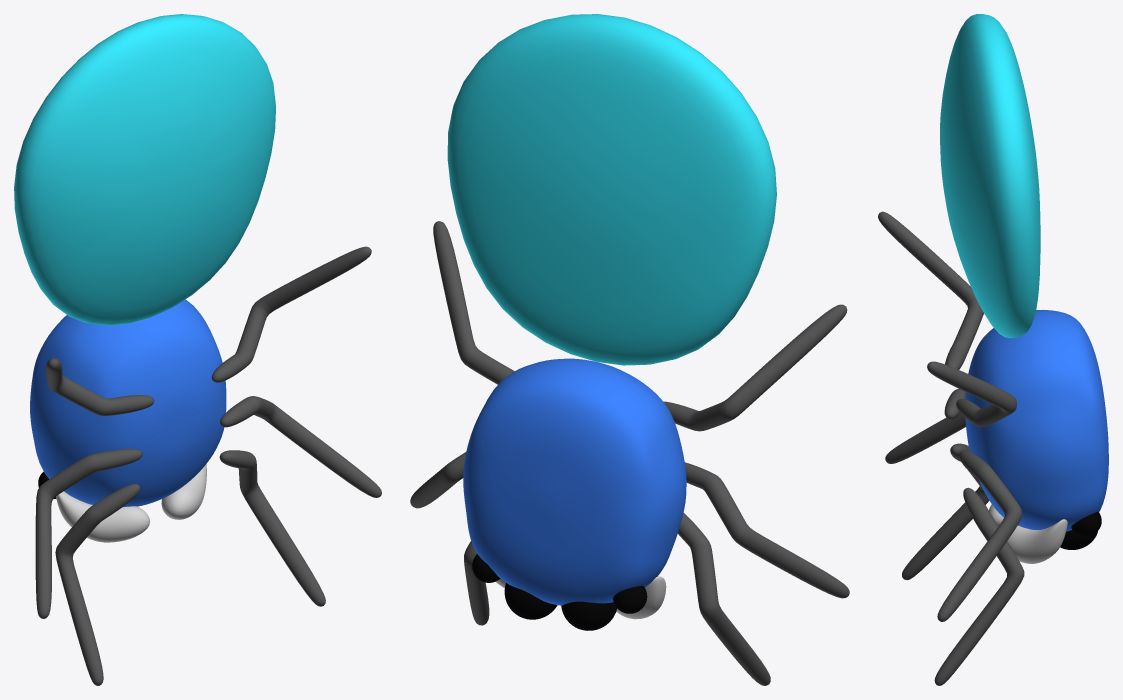
Rendered from Spider66.glb.
3 views of the same model, side by side, from view 1: azimuth 30°, elevation 25°; view 2: azimuth 150°, elevation 25°; view 3: azimuth 270°, elevation 25° (orthographic). The views are drawn at different scales.
Visible parts, largest first — view 1: Butt, Head, Leg.001, Leg.003, Leg.004, Leg.002, Leg, Leg.005, Pincer.001, Pincer; view 2: Butt, Head, Leg.005, Leg.003, Leg.001, Leg.004, Leg.002, Eye, Leg, Eye.001, Pincer.001, Eye.002; view 3: Butt, Head, Leg, Leg.002, Leg.005, Leg.004, Leg.001, Leg.003, Pincer, Eye.003, Eye.001.
Part boxes in pixels (bbox=[...]): Butt: bbox=[14, 14, 275, 325]; Head: bbox=[30, 299, 226, 506]; Leg.001: bbox=[55, 484, 140, 685]; Leg.003: bbox=[35, 449, 142, 618]; Leg.004: bbox=[211, 246, 371, 382]; Leg.002: bbox=[220, 396, 381, 497]; Leg: bbox=[219, 450, 325, 606]; Leg.005: bbox=[46, 358, 154, 415]; Pincer.001: bbox=[56, 491, 150, 542]; Pincer: bbox=[161, 464, 206, 519]; Butt: bbox=[447, 14, 776, 365]; Head: bbox=[463, 358, 686, 605]; Leg.005: bbox=[663, 304, 847, 431]; Leg.003: bbox=[685, 462, 849, 598]; Leg.001: bbox=[678, 512, 770, 685]; Leg.004: bbox=[433, 221, 514, 384]; Leg.002: bbox=[410, 452, 465, 508]; Eye: bbox=[561, 601, 616, 630]; Leg: bbox=[464, 541, 489, 625]; Eye.001: bbox=[504, 583, 557, 619]; Pincer.001: bbox=[616, 576, 666, 619]; Eye.002: bbox=[613, 586, 647, 613]; Butt: bbox=[940, 14, 1040, 338]; Head: bbox=[965, 309, 1108, 531]; Leg: bbox=[934, 487, 1024, 685]; Leg.002: bbox=[937, 450, 1022, 621]; Leg.005: bbox=[878, 211, 983, 369]; Leg.004: bbox=[927, 361, 1016, 427]; Leg.001: bbox=[902, 443, 989, 580]; Leg.003: bbox=[885, 389, 965, 463]; Pincer: bbox=[1007, 519, 1067, 563]; Eye.003: bbox=[1071, 511, 1101, 536]; Eye.001: bbox=[1060, 530, 1097, 549].
Bounding box in the file's own units: 0.3282 × 0.519 × 0.1822.
5 materials, 1 textured.
